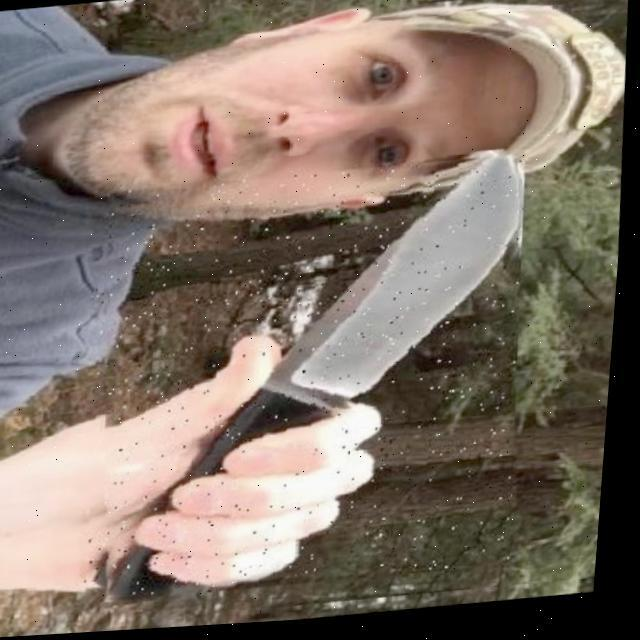knife: (76, 159, 542, 606)
